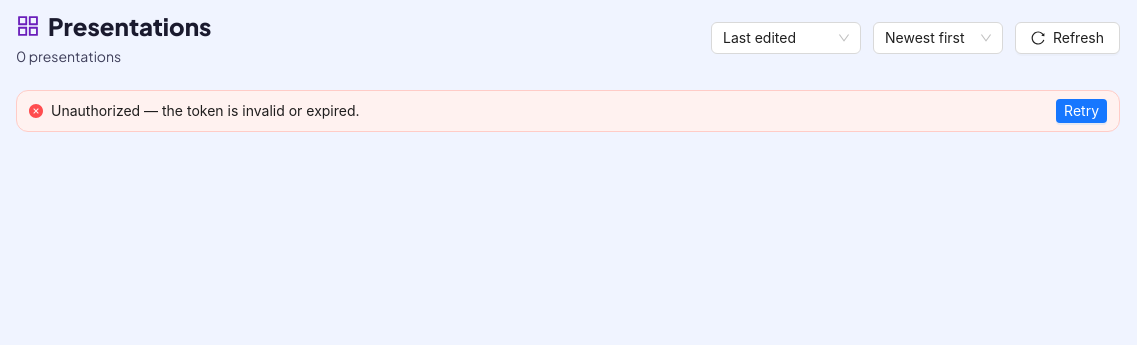
PresentationList.vue › renders the error alert and a Retry button when the API rejects
The width and height of the screenshot is (1137, 345).
Click the button "Retry": (1082, 111) [1056,99,1107,123]
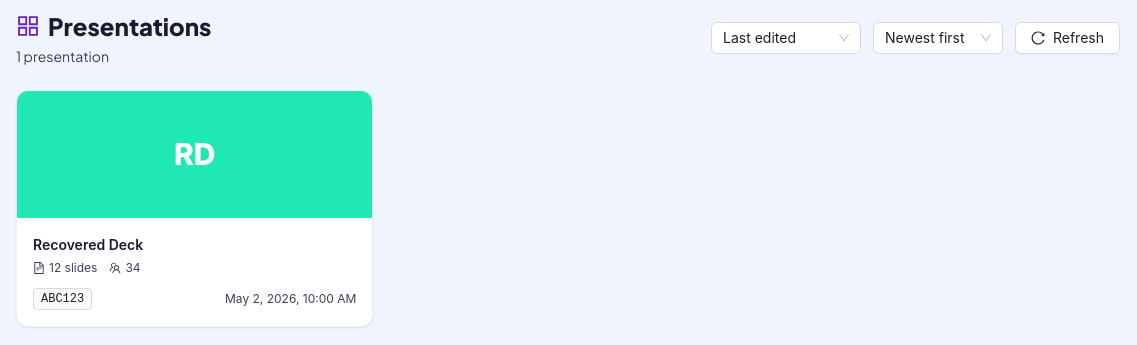
Result: the text "Recovered Deck" is shown at [33,236,143,253]
